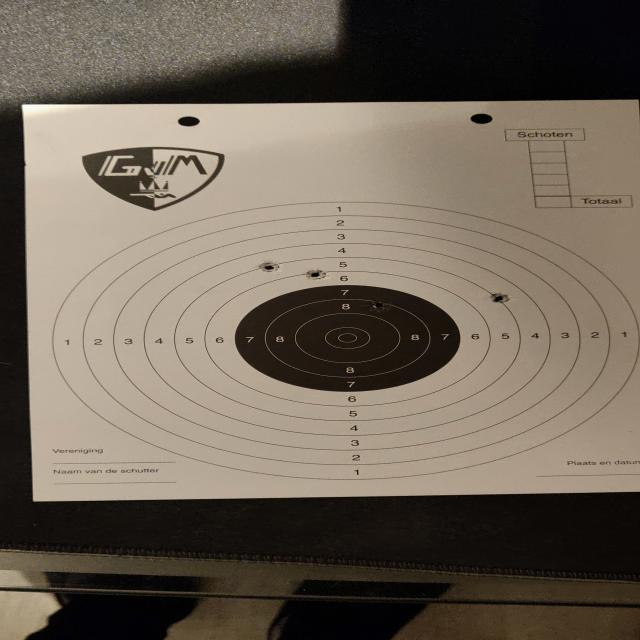5: (254, 259, 284, 274), (486, 291, 514, 304)
6: (302, 269, 332, 281)
8: (364, 299, 396, 314)
Target: (50, 200, 640, 481)
black_contour: (232, 285, 462, 392)
